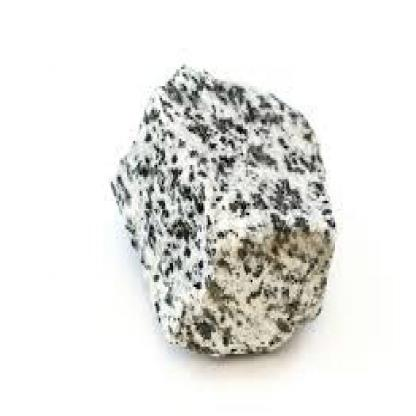Igneous_Diorite: (106, 48, 335, 361)
